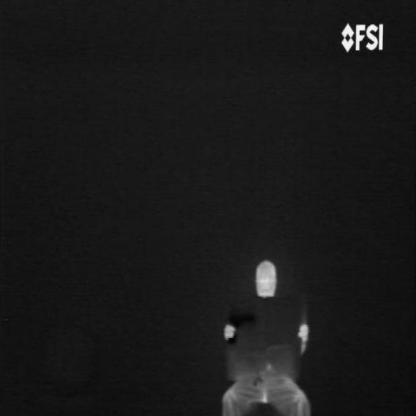weapon: (224, 304, 260, 347)
